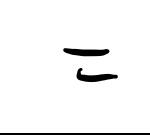eqv: (64, 47, 118, 82)
